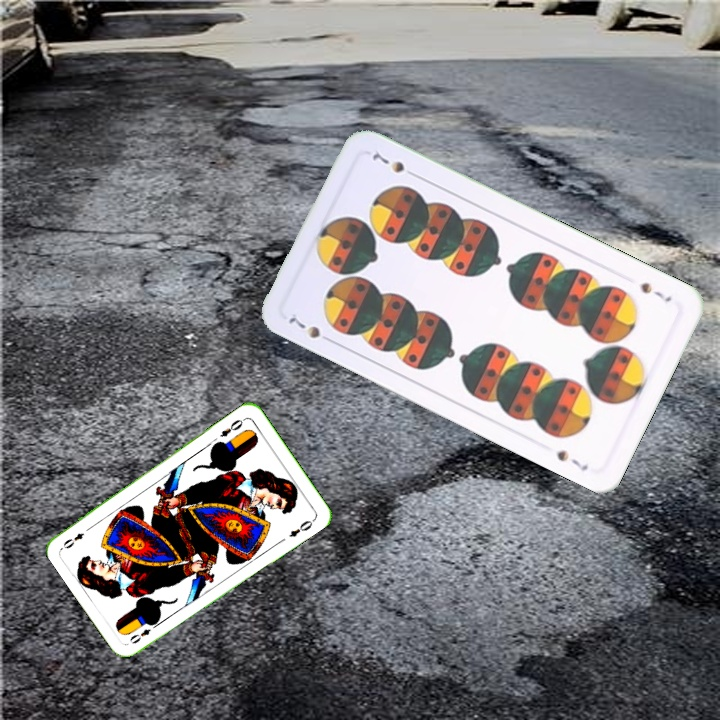EO: (125, 619, 161, 646), (216, 414, 248, 440)
S7: (284, 313, 337, 346), (636, 278, 675, 305)
